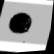correct: (5, 8, 35, 38)
